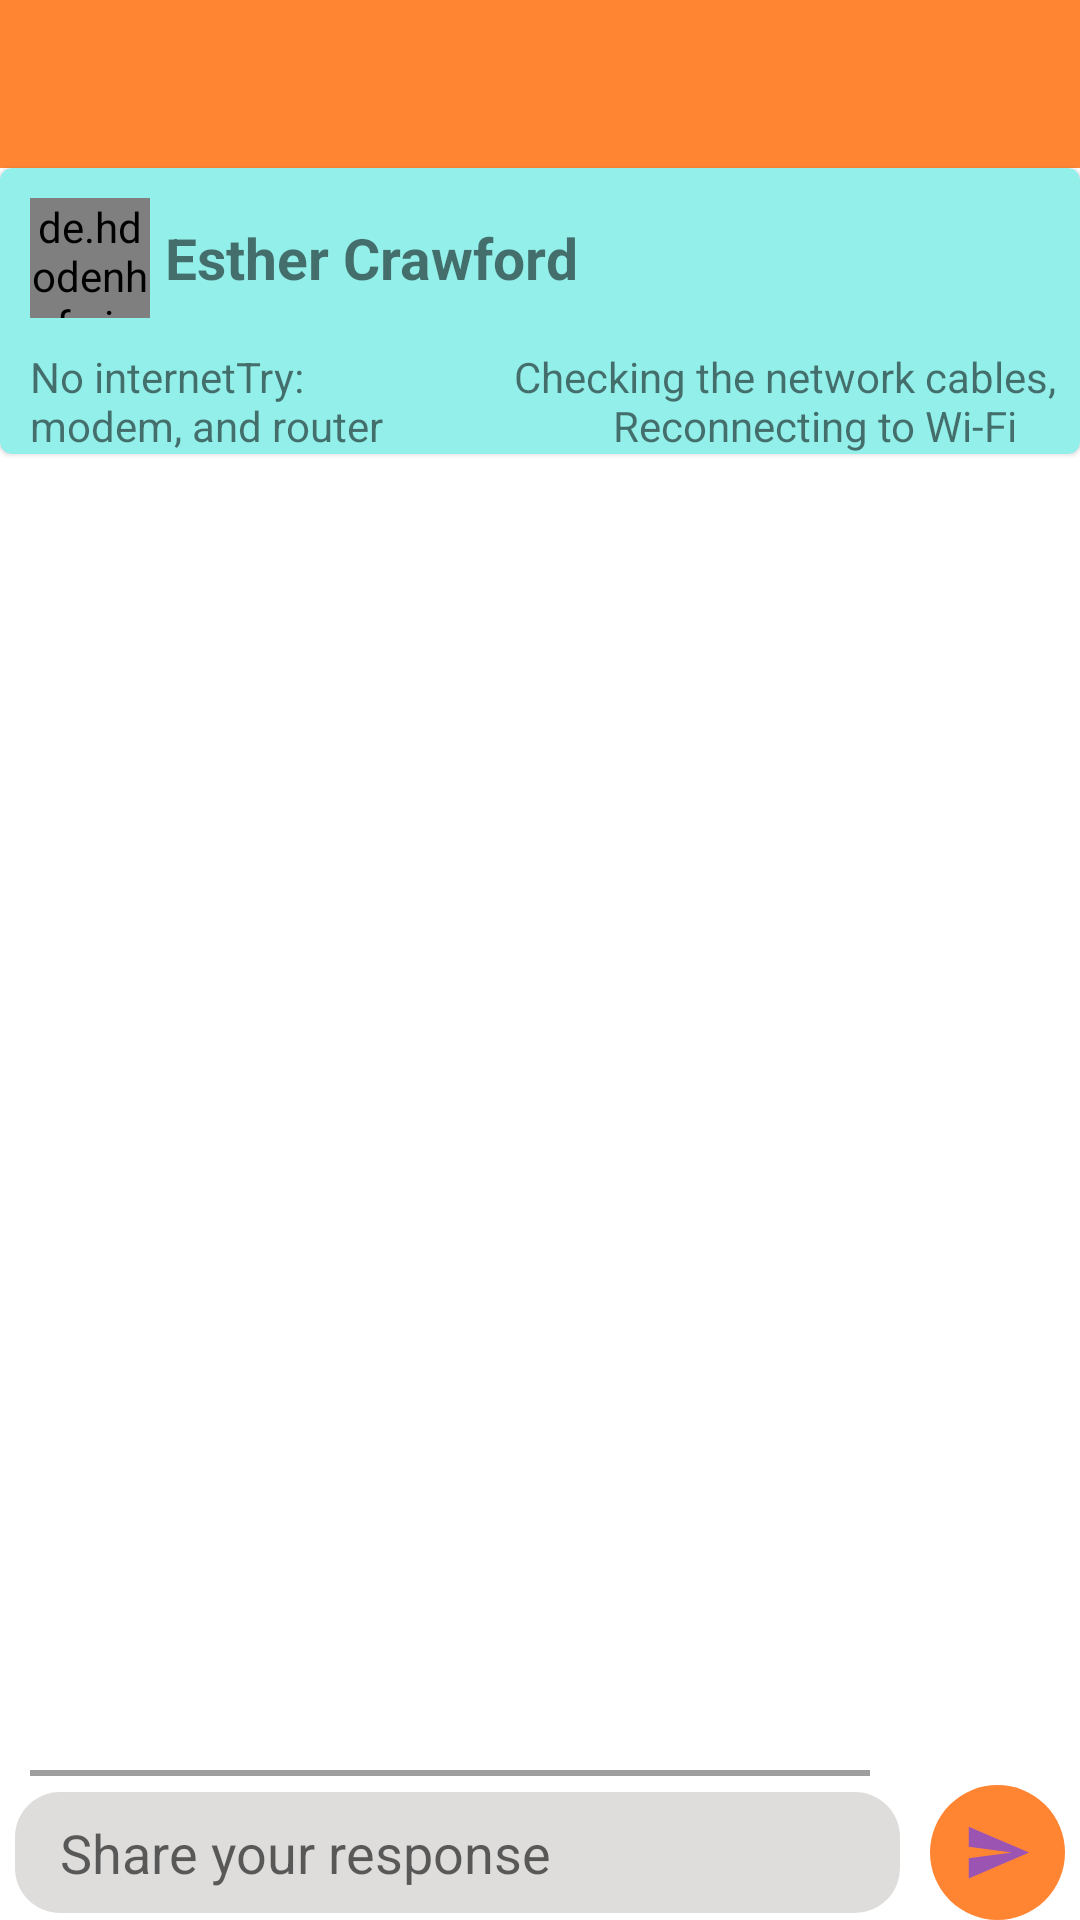

Locate icon controls on the screen. Image size 1080×1920, boxes as rect(x1, y1, x2, y2).
send: rect(968, 1827, 1029, 1878)
